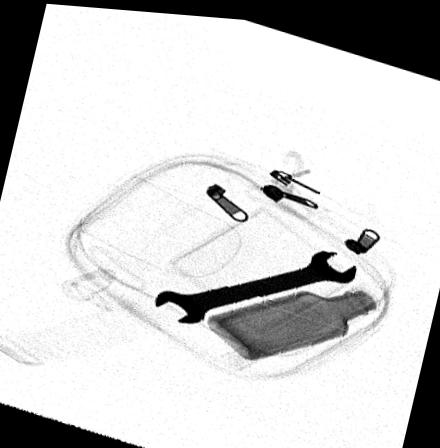Wrench: (151, 244, 357, 322)
